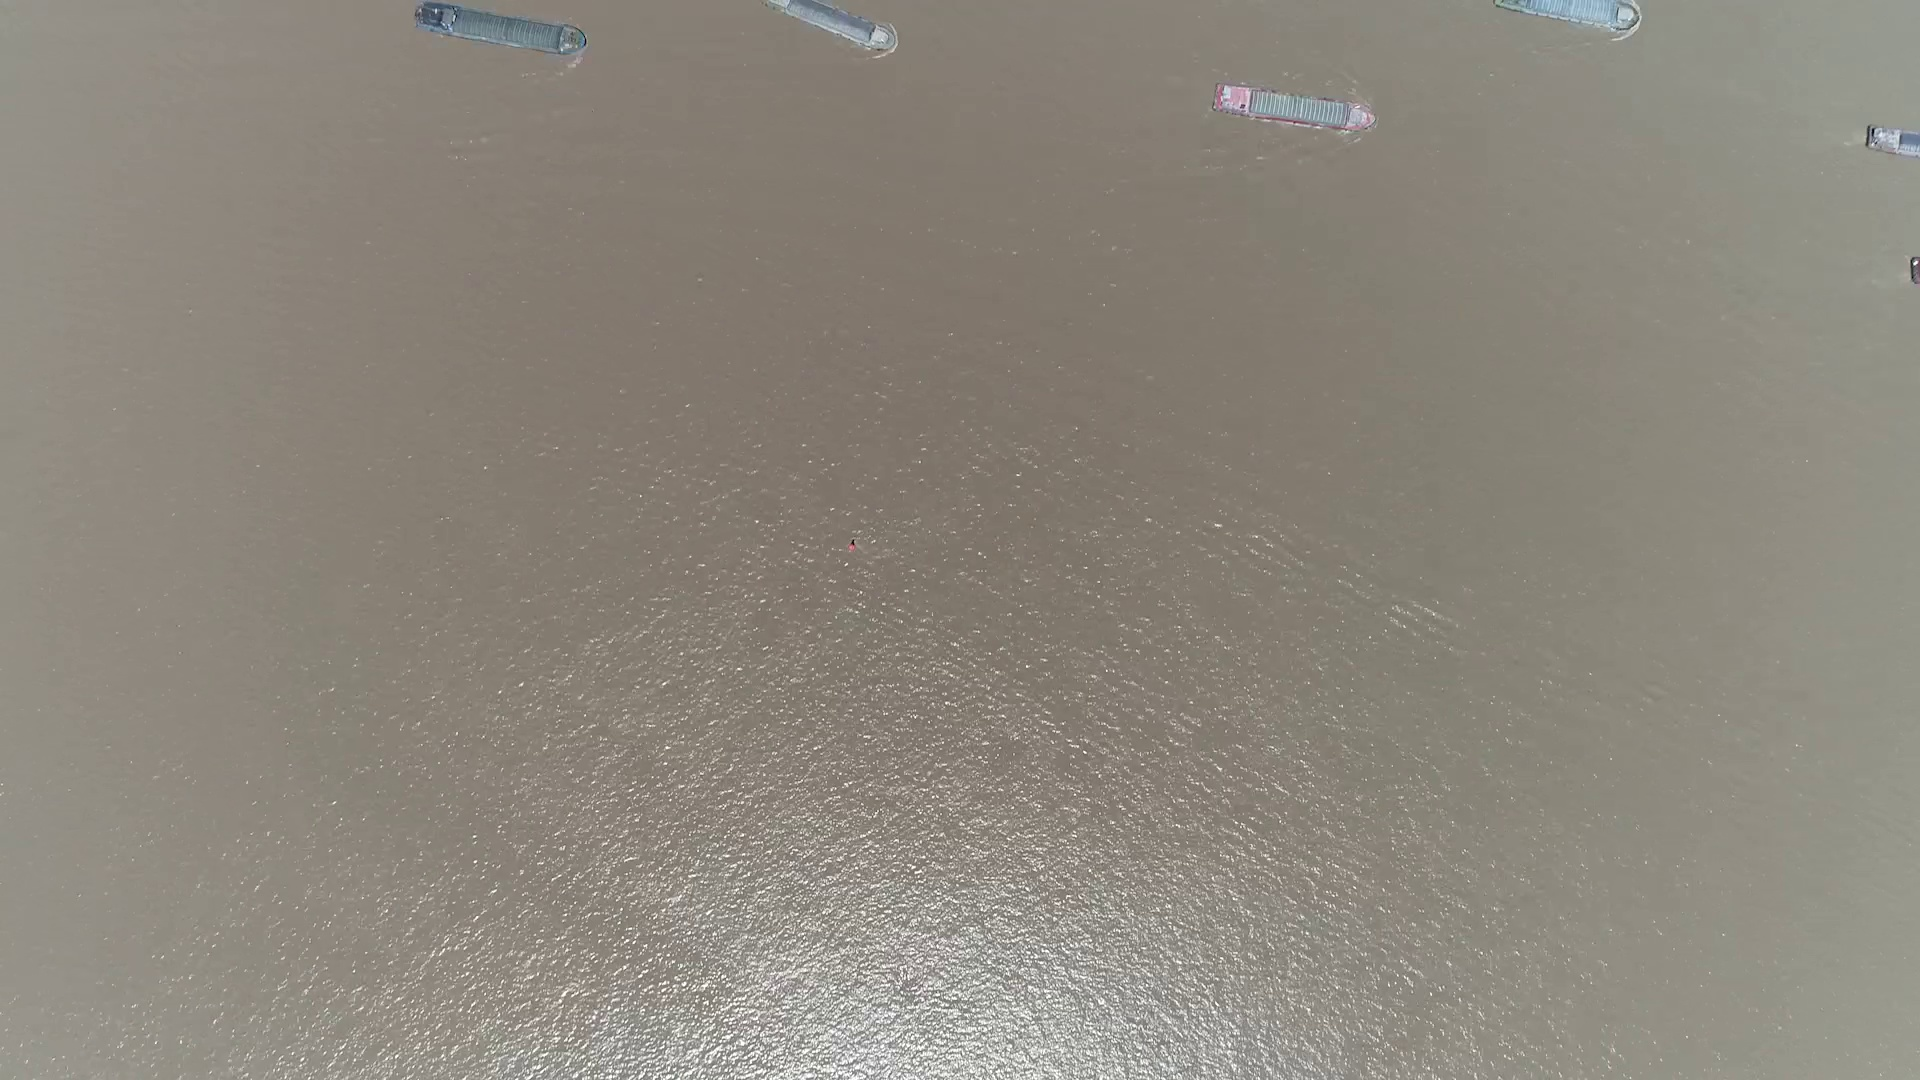ship: (413, 3, 585, 57), (1212, 88, 1371, 131), (767, 0, 894, 50), (1495, 0, 1640, 26), (1866, 127, 1917, 156)
